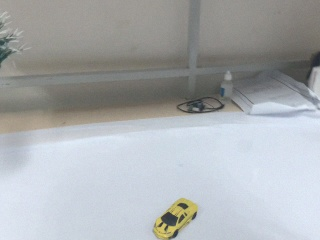toy_car: (153, 198, 198, 240)
